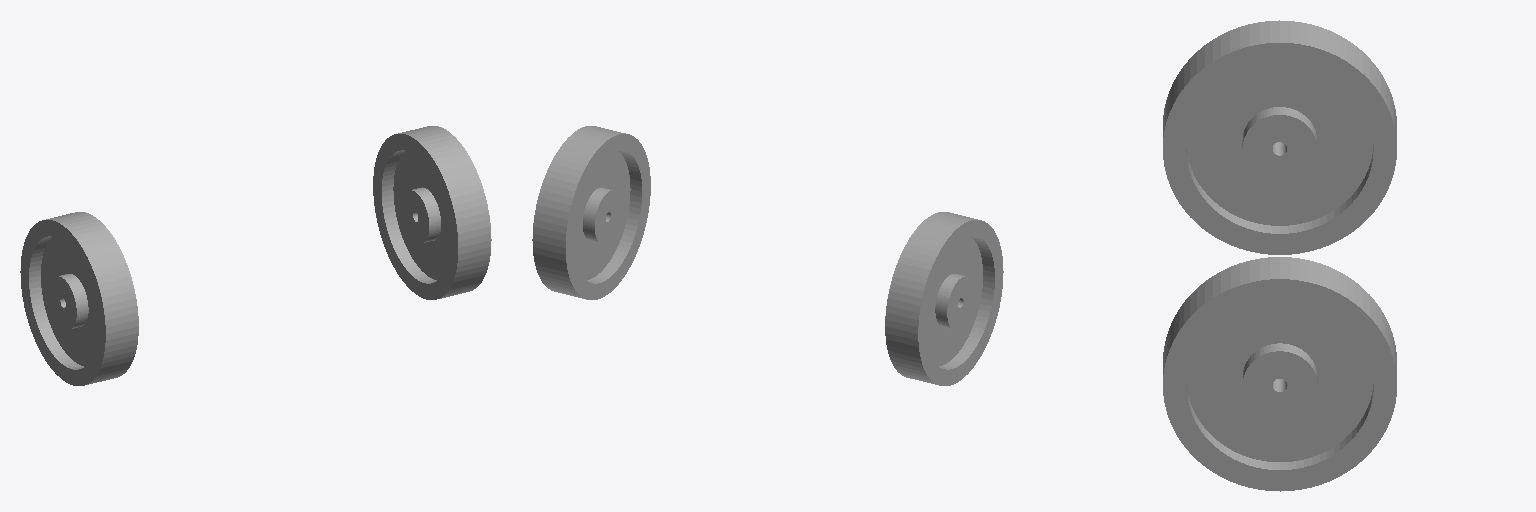
URDF robot description (twip):
<robot name="twip">
    <link name="body">
        <visual>
            <origin xyz="0 0 0" rpy="0 -0 0" />
            <geometry>
                <mesh filename="meshes/body_visual.stl" />
            </geometry>
            <material name="body_material">
                <color rgba="0.836159 0.803167 0.618468 1.0" />
            </material>
        </visual>
        <collision>
            <origin xyz="0 0 0" rpy="0 -0 0" />
            <geometry>
                <mesh filename="meshes/body_collision.stl" />
            </geometry>
            <material name="body_material">
                <color rgba="0.5 0.5 0.5 1.0" />
            </material>
        </collision>
        <inertial>
            <origin xyz="-0.0826102 -0.0762618 0.0883732" rpy="0 0 0" />
            <mass value="2.24123" />
            <inertia ixx="0.0305626" ixy="8.49821e-05" ixz="-0.00052591" iyy="0.0378459" iyz="-7.78686e-05" izz="0.0115403" />
        </inertial>
    </link>

    <link name="left_wheel">
        <visual>
            <origin xyz="0 0 0" rpy="0 -0 0" />
            <geometry>
                <mesh filename="meshes/left_wheel_visual.stl" />
            </geometry>
            <material name="left_wheel_material">
                <color rgba="0.701961 0.701961 0.701961 1.0" />
            </material>
        </visual>
        <collision>
            <origin xyz="0 0 0" rpy="0 -0 0" />
            <geometry>
                <mesh filename="meshes/left_wheel_collision.stl" />
            </geometry>
            <material name="left_wheel_material">
                <color rgba="0.5 0.5 0.5 1.0" />
            </material>
        </collision>
        <inertial>
            <origin xyz="-3.71533e-18 0 -0.014" rpy="0 0 0" />
            <mass value="0.190998" />
            <inertia ixx="0.000227519" ixy="-2.48322e-45" ixz="1.98553e-36" iyy="0.000435834" iyz="-9.62881e-37" izz="0.000227519" />
        </inertial>
    </link>

    <joint name="lwheel" type="revolute">
        <origin xyz="0.0509238 -0.0784359 -0.0289244" rpy="-3.14159 1.5708 0" />
        <parent link="body" />
        <child link="left_wheel" />
        <axis xyz="0 0 1" />
        <limit effort="1" velocity="20" />
        <dynamics friction="1.0" damping="600.0" />
    </joint>

    <link name="right_wheel">
        <visual>
            <origin xyz="0 0 0" rpy="0 -0 0" />
            <geometry>
                <mesh filename="meshes/right_wheel_visual.stl" />
            </geometry>
            <material name="right_wheel_material">
                <color rgba="0.701961 0.701961 0.701961 1.0" />
            </material>
        </visual>
        <collision>
            <origin xyz="0 0 0" rpy="0 -0 0" />
            <geometry>
                <mesh filename="meshes/right_wheel_collision.stl" />
            </geometry>
            <material name="right_wheel_material">
                <color rgba="0.5 0.5 0.5 1.0" />
            </material>
        </collision>
        <inertial>
            <origin xyz="-3.71533e-18 0 -0.014" rpy="0 0 0" />
            <mass value="0.190998" />
            <inertia ixx="0.000227519" ixy="-1.1483e-46" ixz="1.40219e-36" iyy="0.000435834" iyz="1.67541e-35" izz="0.000227519" />
        </inertial>
    </link>

    <joint name="rwheel" type="revolute">
        <origin xyz="-0.219373 -0.078494 -0.0289244" rpy="1.66533e-16 1.5708 0" />
        <parent link="body" />
        <child link="right_wheel" />
        <axis xyz="0 0 -1" />
        <limit effort="1" velocity="20" />
        <dynamics friction="1.0" damping="600.0" />
    </joint>


</robot>

--- What the picture shows (computed from the rendered views, not written in the file) ---
The picture shows the robot from 3 angles, left to right: view 1: azimuth 30°, elevation 25°; view 2: azimuth 150°, elevation 25°; view 3: azimuth 270°, elevation 25°; orthographic projection.
Model twip with 3 links and 2 joints (2 revolute), rooted at body, posed all joints at 0.
Visible links, largest first — view 1: left_wheel, right_wheel; view 2: left_wheel, right_wheel; view 3: left_wheel, right_wheel.
Link boxes in pixels (box(x1,y1,x2,y2)): left_wheel: box(373, 126, 491, 299); right_wheel: box(20, 212, 138, 385); left_wheel: box(532, 126, 650, 299); right_wheel: box(885, 212, 1003, 385); left_wheel: box(1163, 257, 1396, 491); right_wheel: box(1163, 20, 1396, 254).
Bounding box of the posed robot: 0.3263 × 0.1251 × 0.125 m (x, y, z).
Meshes: 3 distinct files referenced, 2 mesh visuals loaded (2 binary STL); not drawn: 1 (reference not matched to a file when rendering).